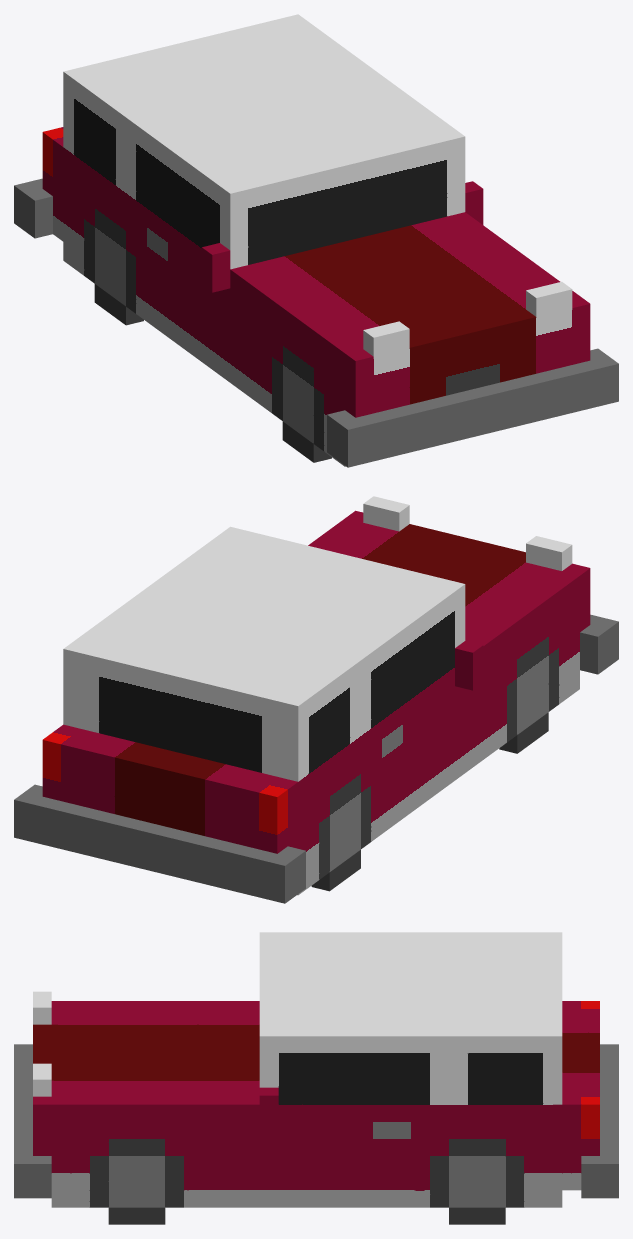
Rendered from veh_wagon4.dae.
3 views of the same model, one above another, from view 1: azimuth 30°, elevation 25°; view 2: azimuth 150°, elevation 25°; view 3: azimuth 270°, elevation 25° (orthographic). The views are drawn at different scales.
Parts seen in each view (by area): view 1: veh_wagon4; view 2: veh_wagon4; view 3: veh_wagon4.
Part boxes in pixels (x1,y1,x2,y2): veh_wagon4: [14, 14, 618, 467]; veh_wagon4: [14, 496, 618, 903]; veh_wagon4: [14, 932, 618, 1224].
Size of the model in its own units: 1.5 by 3.2 by 1.1.
1 material, 1 textured.
